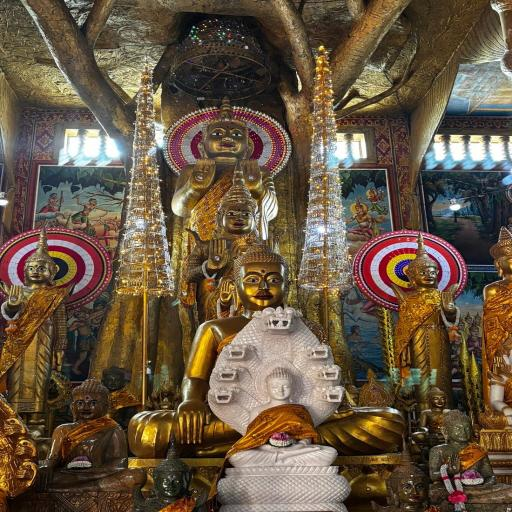ran: (192, 303, 354, 437)
than: (122, 240, 407, 457), (140, 94, 314, 264), (176, 154, 297, 324), (212, 371, 346, 512), (370, 227, 476, 405), (0, 215, 70, 442), (34, 374, 138, 497), (409, 410, 512, 512), (469, 219, 512, 436), (135, 434, 209, 512), (370, 433, 443, 512), (408, 384, 466, 448), (97, 364, 140, 424)
